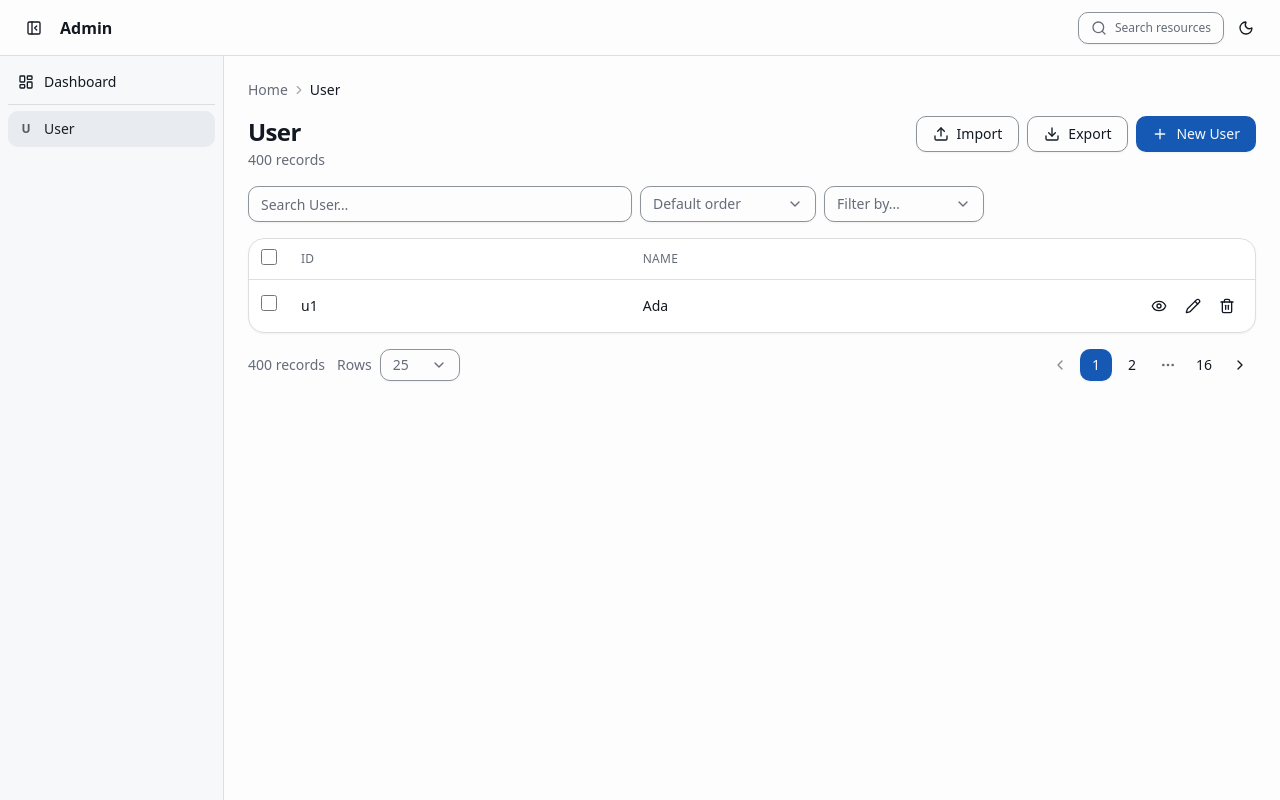
Test case: choosing a page size › changes how many pages there are
Expected: the table is shown, [249,239,1255,332]
Expected: the button named "Page 16" is shown, [1188,348,1220,380]
Press Enter in the dropdown named "Rows per page", box [380,348,460,380]
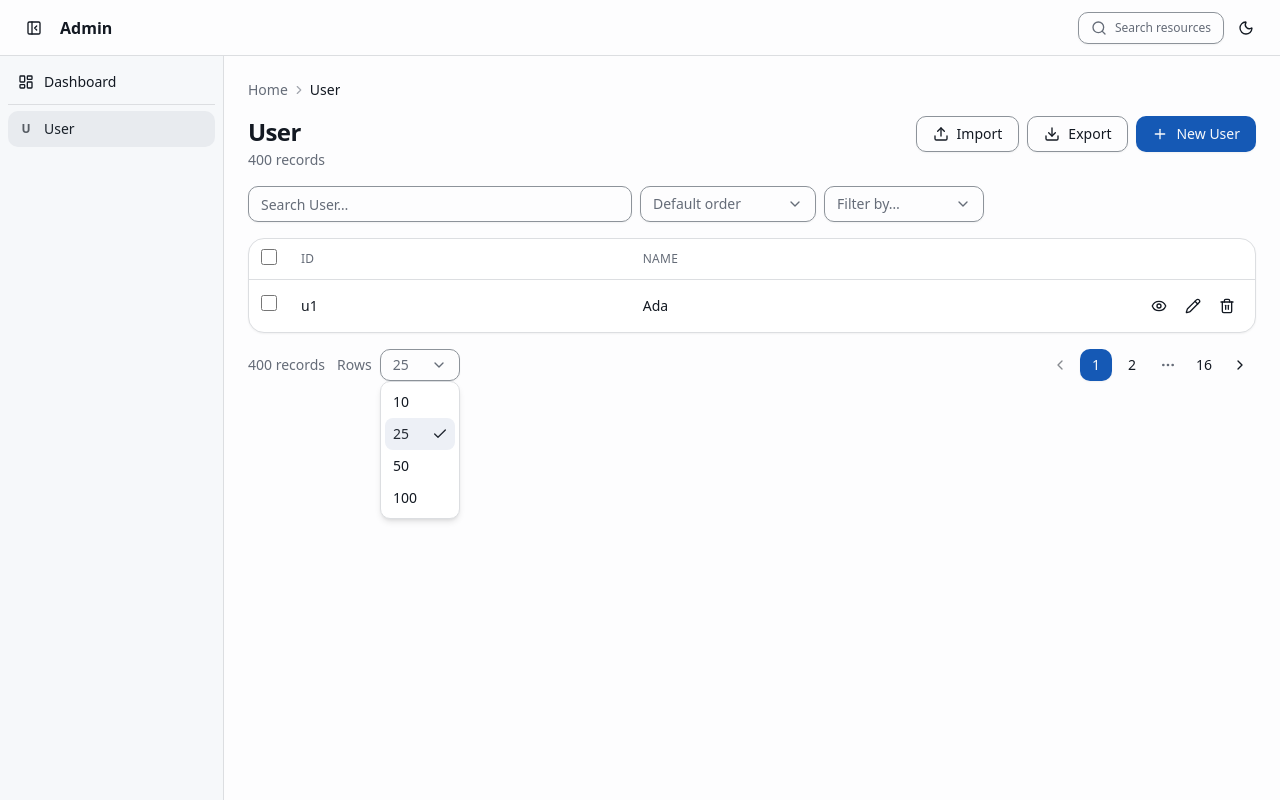
Click the option "100" at (405, 498), box [393,488,417,507]
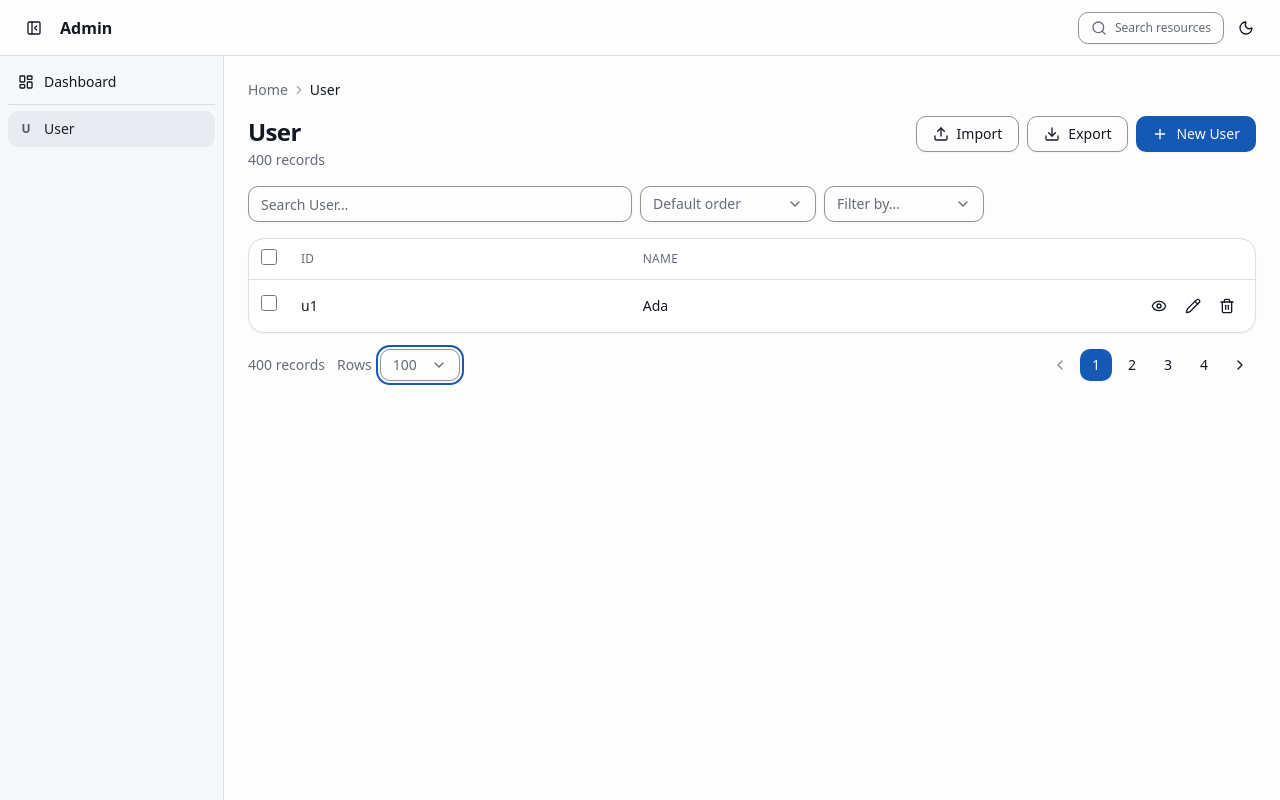
Now the button named "Page 4" is shown, box [1188,348,1220,380]
